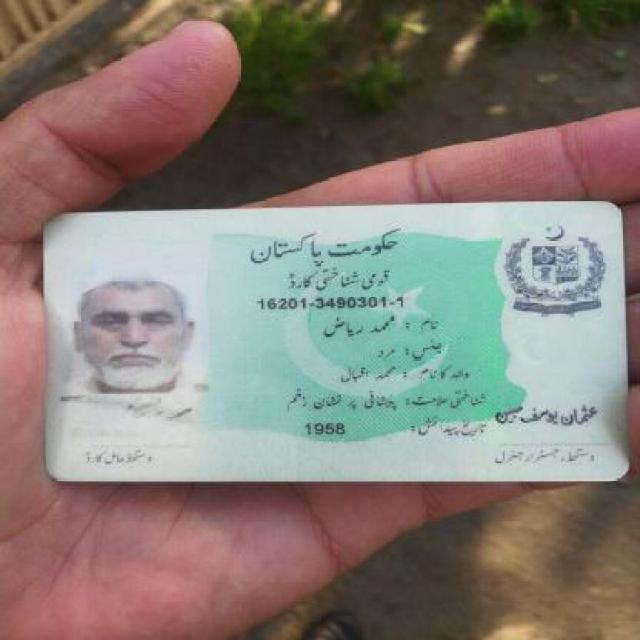Front: (28, 200, 630, 485)
